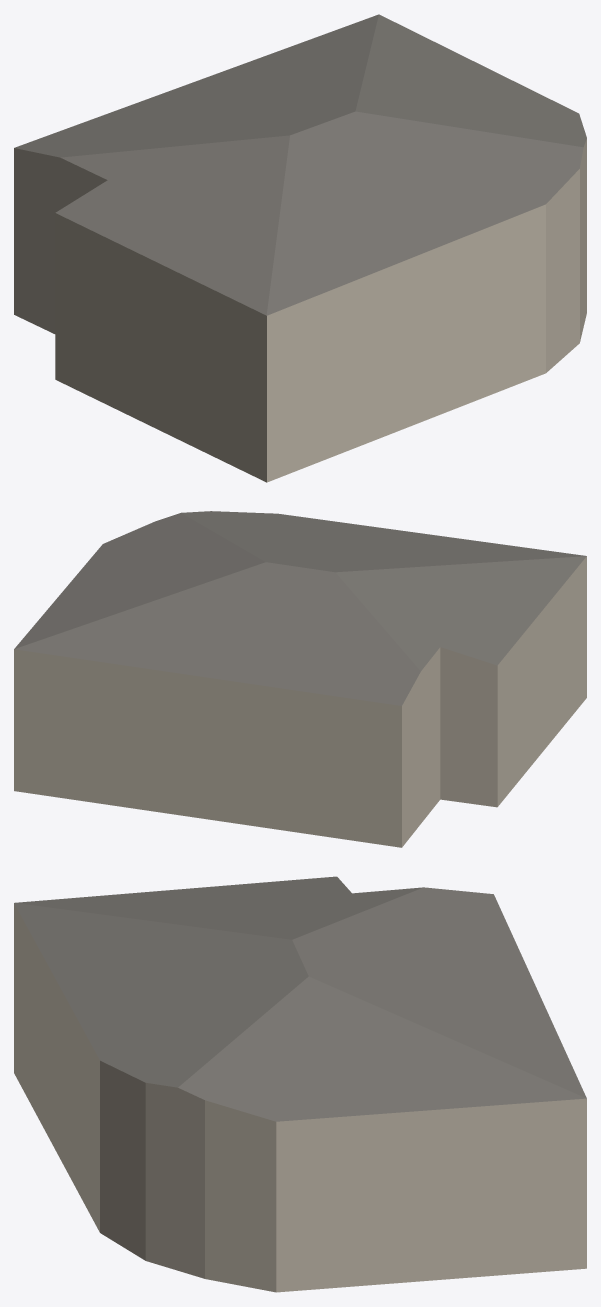
The picture shows the model from 3 angles, top to bottom: view 1: azimuth 30°, elevation 25°; view 2: azimuth 150°, elevation 25°; view 3: azimuth 270°, elevation 25°; orthographic projection. The views are drawn at different scales.
Visible parts, largest first — view 1: HP-w428202600; view 2: HP-w428202600; view 3: HP-w428202600.
Boxes of the visible parts, x1=… form: HP-w428202600: x1=14, y1=14, x2=586, y2=482; HP-w428202600: x1=14, y1=511, x2=586, y2=847; HP-w428202600: x1=14, y1=876, x2=586, y2=1292.
Size of the model in its own units: 37.2 by 15 by 36.63.
